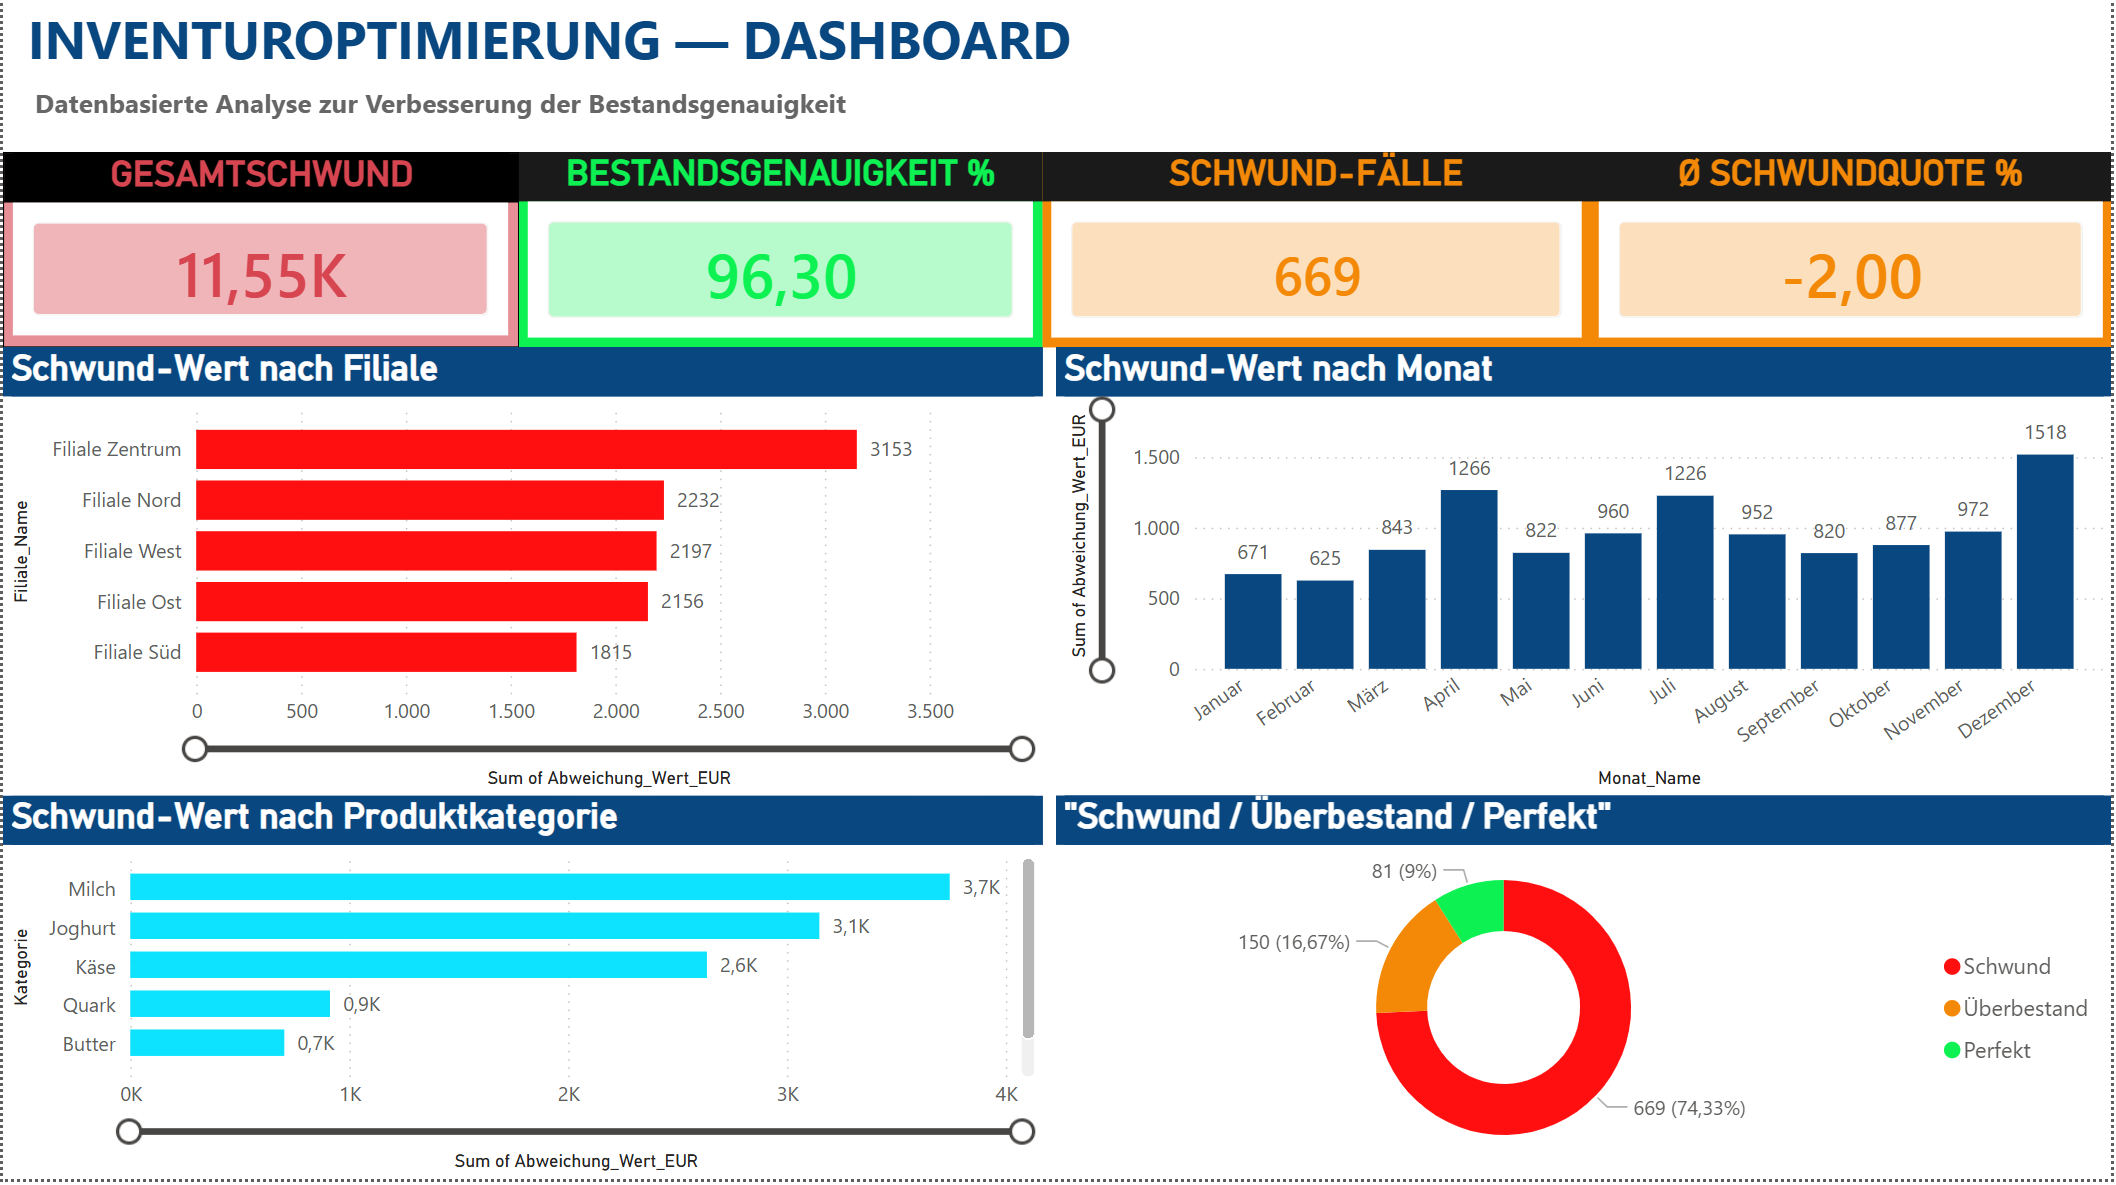

What the dashboard file says about the page in this screenshot:
{"tool":"powerbi","page":{"name":"Dashboard","canvas":[1280,720],"ordinal":0},"visuals":[{"type":"textbox","box":[10.4,0,701,66],"z":0},{"type":"textbox","box":[10.4,49.8,701,47.5],"z":1000},{"type":"cardVisual","title":"GESAMTSCHWUND","fields":{"Data":["Sum(Rohdaten.Abweichung_Wert_EUR)"]},"box":[0,96.7,313.2,118.5],"z":2000},{"type":"cardVisual","title":" BESTANDSGENAUIGKEIT %","fields":{"Data":["Rohdaten.Bestandsgenauigkeit"]},"box":[313.2,96.7,318,118.5],"z":3000},{"type":"cardVisual","title":"SCHWUND-FÄLLE","fields":{"Data":["Rohdaten.Schwund_Fälle"]},"box":[631.1,96.7,332.5,118.5],"z":4000},{"type":"cardVisual","title":"Ø SCHWUNDQUOTE %","fields":{"Data":["Rohdaten.Avg_Schwundquote"]},"box":[963.6,96.7,316.8,118.5],"z":5000},{"type":"clusteredBarChart","title":"Schwund-Wert nach Filiale","fields":{"Category":["Rohdaten.Filiale_Name"],"Y":["Sum(Rohdaten.Abweichung_Wert_EUR)"]},"box":[0,215.2,631.1,272],"z":6000},{"type":"clusteredColumnChart","title":"Schwund-Wert nach Monat","fields":{"Y":["Sum(Rohdaten.Abweichung_Wert_EUR)"],"Category":["Rohdaten.Monat_Name"]},"box":[639.6,215.2,640.8,272],"z":7000},{"type":"clusteredBarChart","title":"Schwund-Wert nach Produktkategorie","fields":{"Category":["Rohdaten.Kategorie"],"Y":["Sum(Rohdaten.Abweichung_Wert_EUR)"]},"box":[0,487.3,631.1,232.1],"z":8000},{"type":"donutChart","title":"\"Schwund / Überbestand / Perfekt\"","fields":{"Category":["Rohdaten.Abweichung_Typ"],"Y":["CountNonNull(Rohdaten.Abweichung_Typ)"]},"box":[639.6,487.3,640.8,232.1],"z":9000}]}

Visuals, with their boxes in screenshot pixels (x1, y1, x2, y2), scaled from the page's 1280x720 canvas onto the 2116x1185 screenshot:
textbox: (17, 0, 1176, 109)
textbox: (17, 82, 1176, 160)
"GESAMTSCHWUND" cardVisual: (0, 159, 518, 354)
" BESTANDSGENAUIGKEIT %" cardVisual: (518, 159, 1043, 354)
"SCHWUND-FÄLLE" cardVisual: (1043, 159, 1593, 354)
"Ø SCHWUNDQUOTE %" cardVisual: (1593, 159, 2115, 354)
"Schwund-Wert nach Filiale" clusteredBarChart: (0, 354, 1043, 802)
"Schwund-Wert nach Monat" clusteredColumnChart: (1057, 354, 2115, 802)
"Schwund-Wert nach Produktkategorie" clusteredBarChart: (0, 802, 1043, 1184)
""Schwund / Überbestand / Perfekt"" donutChart: (1057, 802, 2115, 1184)
